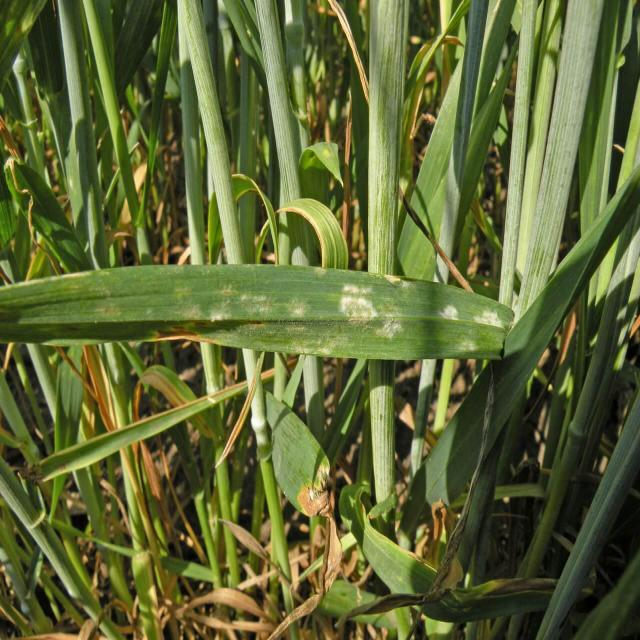wheat-powdery-mildew: (0, 263, 517, 365)
